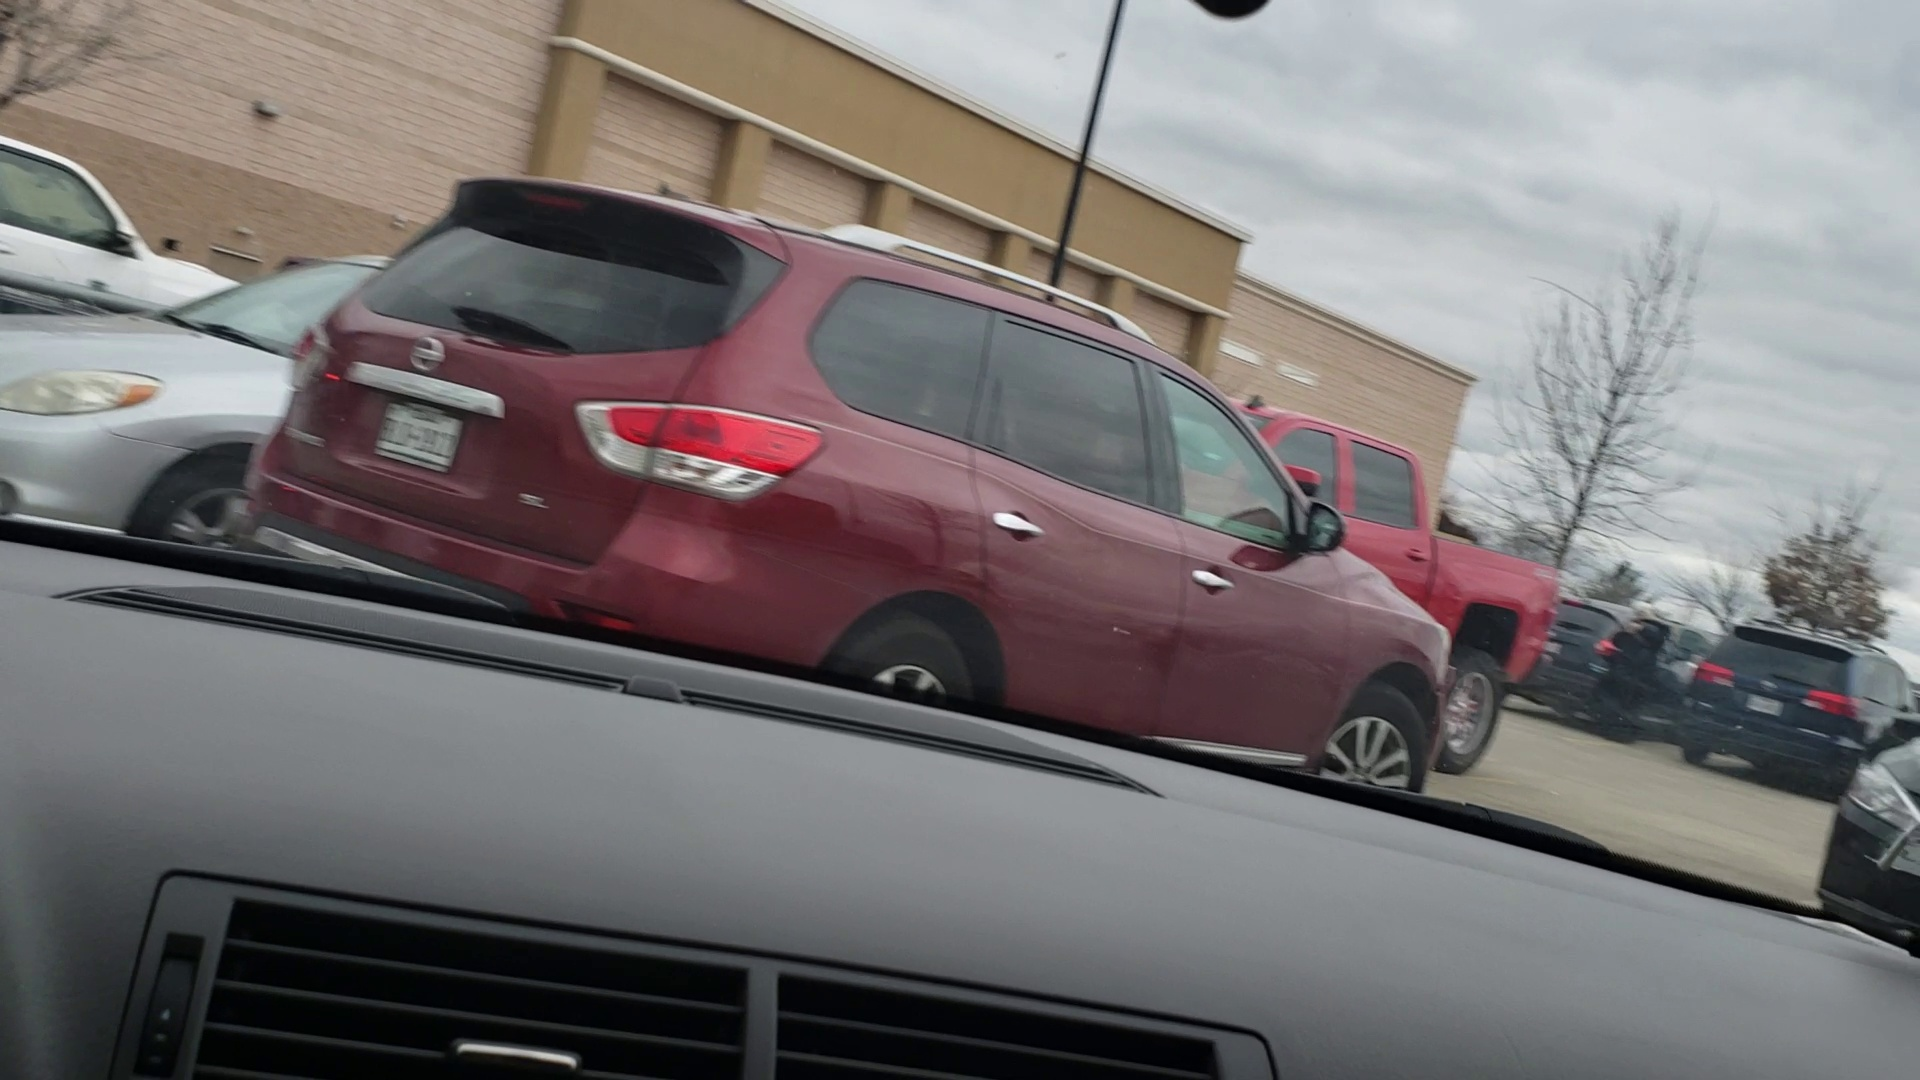car: (258, 178, 1444, 820), (1, 236, 423, 553), (1705, 589, 1915, 796), (1, 135, 225, 324), (1538, 560, 1708, 752), (1828, 723, 1920, 971)
truck: (1211, 371, 1567, 798)
